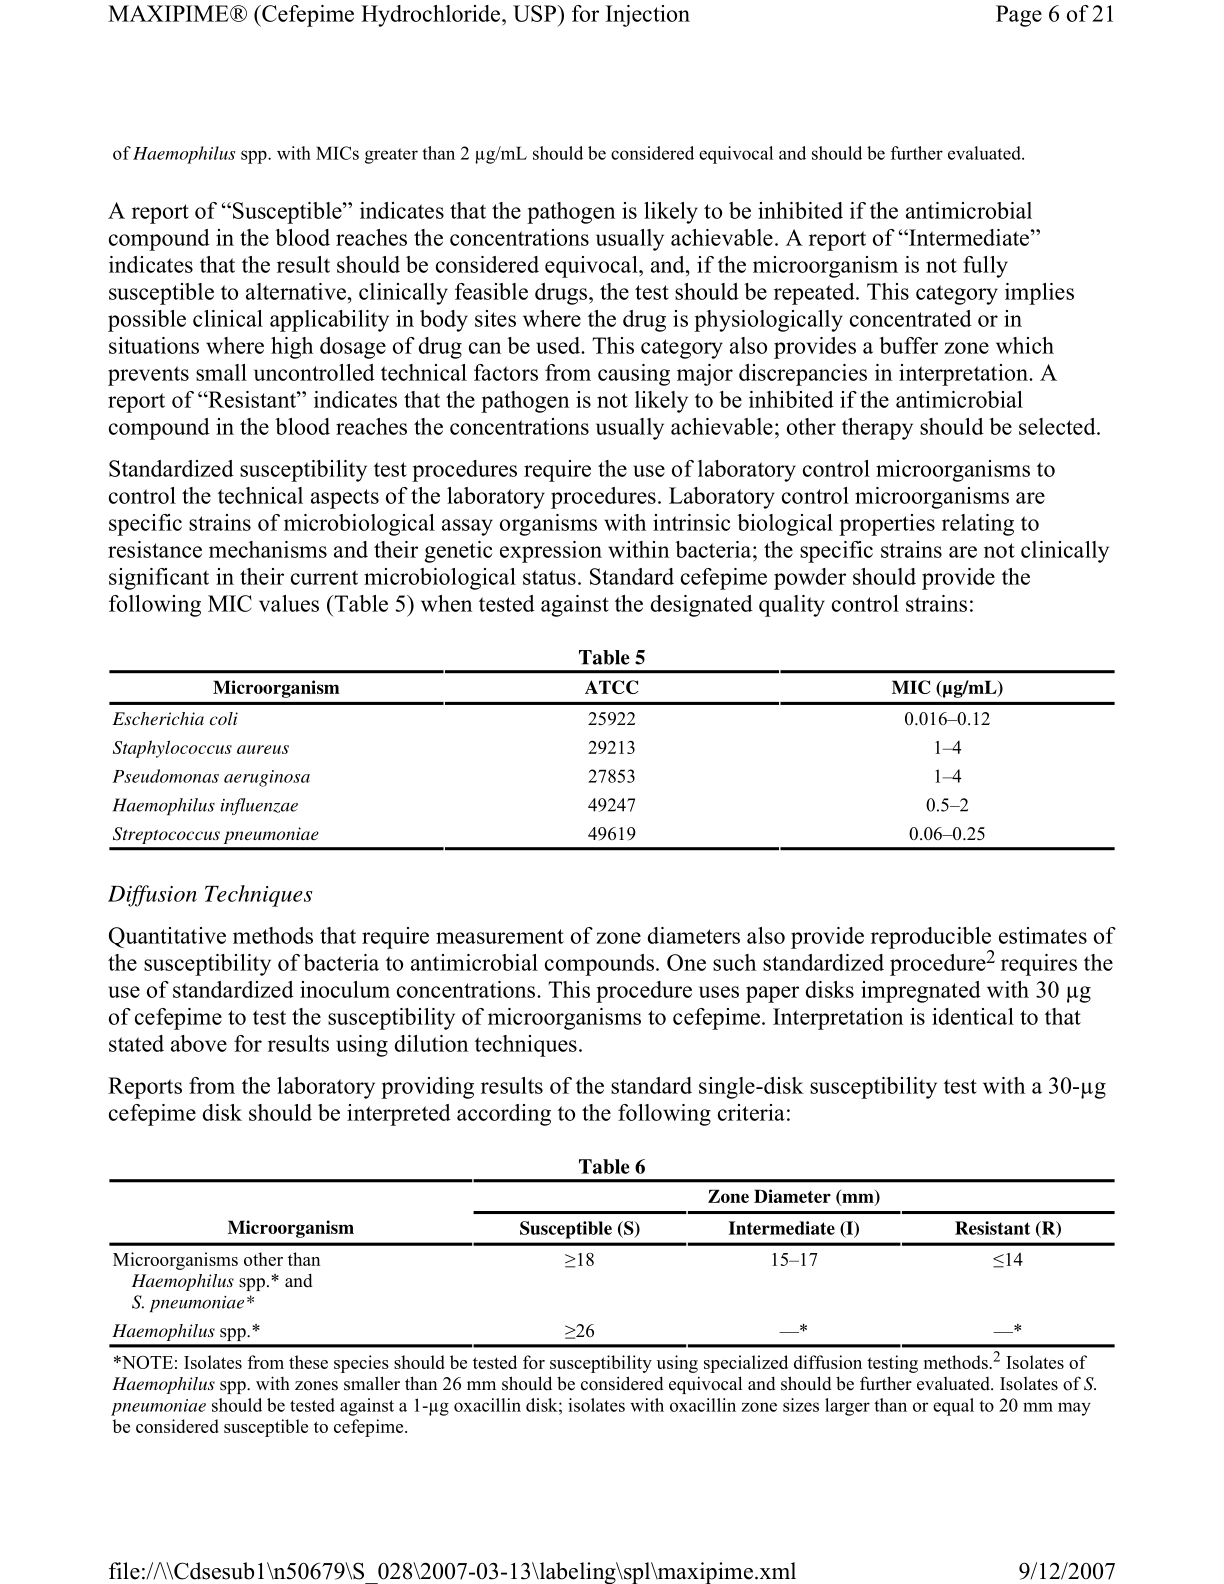partial_lined: (109, 669, 1116, 851)
partial_lined_merged_cells: (109, 1178, 1115, 1347)
